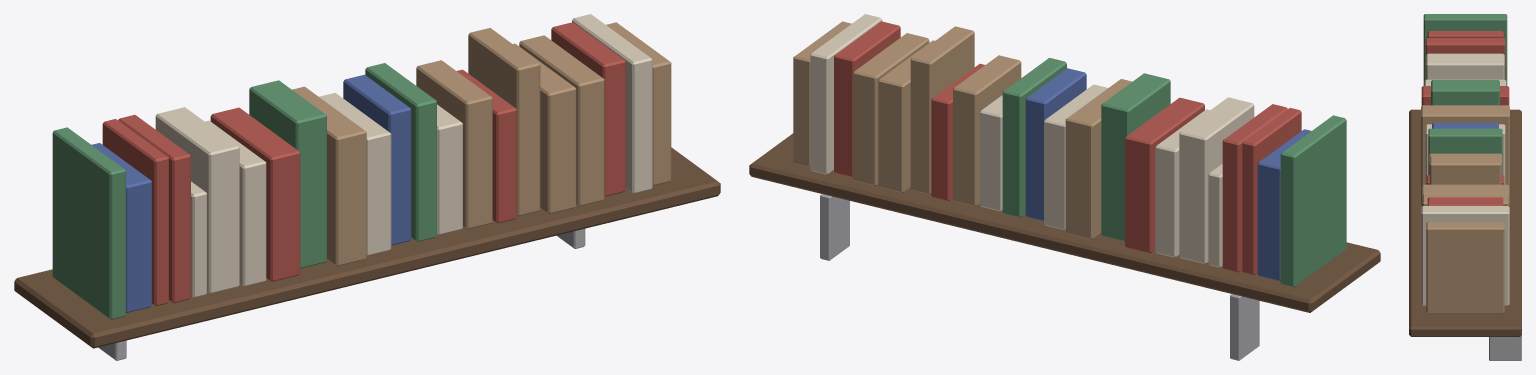
Rendered from bookshelf_wall.fbx.
3 renders of one model, left to right at view 1: azimuth 30°, elevation 25°; view 2: azimuth 150°, elevation 25°; view 3: azimuth 270°, elevation 25°, orthographic. The views are drawn at different scales.
Parts seen in each view (by area): view 1: Shelf; view 2: Shelf; view 3: Shelf.
Part boxes in pixels (bbox=[...]): Shelf: bbox=[14, 14, 720, 360]; Shelf: bbox=[749, 14, 1380, 360]; Shelf: bbox=[1409, 14, 1521, 360].
Size of the model in its own units: 1.1 by 0.3924 by 0.24.
